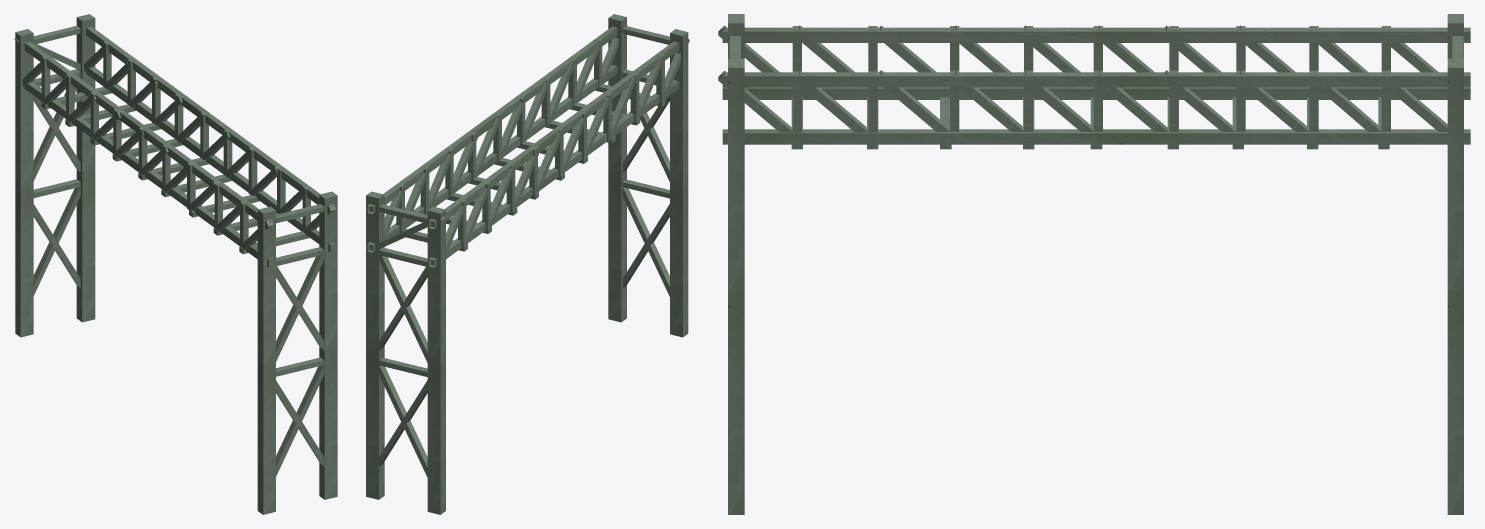
The model's file is billboard A.FBX.
3 renders of one model, left to right at view 1: azimuth 30°, elevation 25°; view 2: azimuth 150°, elevation 25°; view 3: azimuth 270°, elevation 25°, orthographic. The views are drawn at different scales.
Parts seen in each view (by area): view 1: Box025; view 2: Box025; view 3: Box025.
Part boxes in pixels (bbox=[...]): Box025: bbox=[14, 14, 337, 514]; Box025: bbox=[366, 14, 689, 514]; Box025: bbox=[718, 14, 1470, 514].
Bounding box in the file's own units: 12.5 × 47.72 × 72.77.
1 material, 1 textured.
